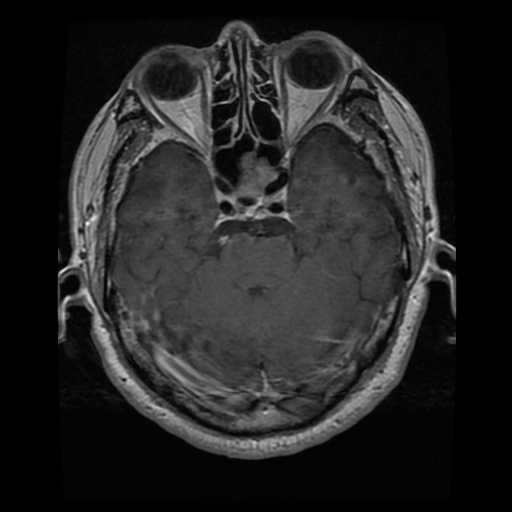pituitary: (238, 158, 277, 194)
